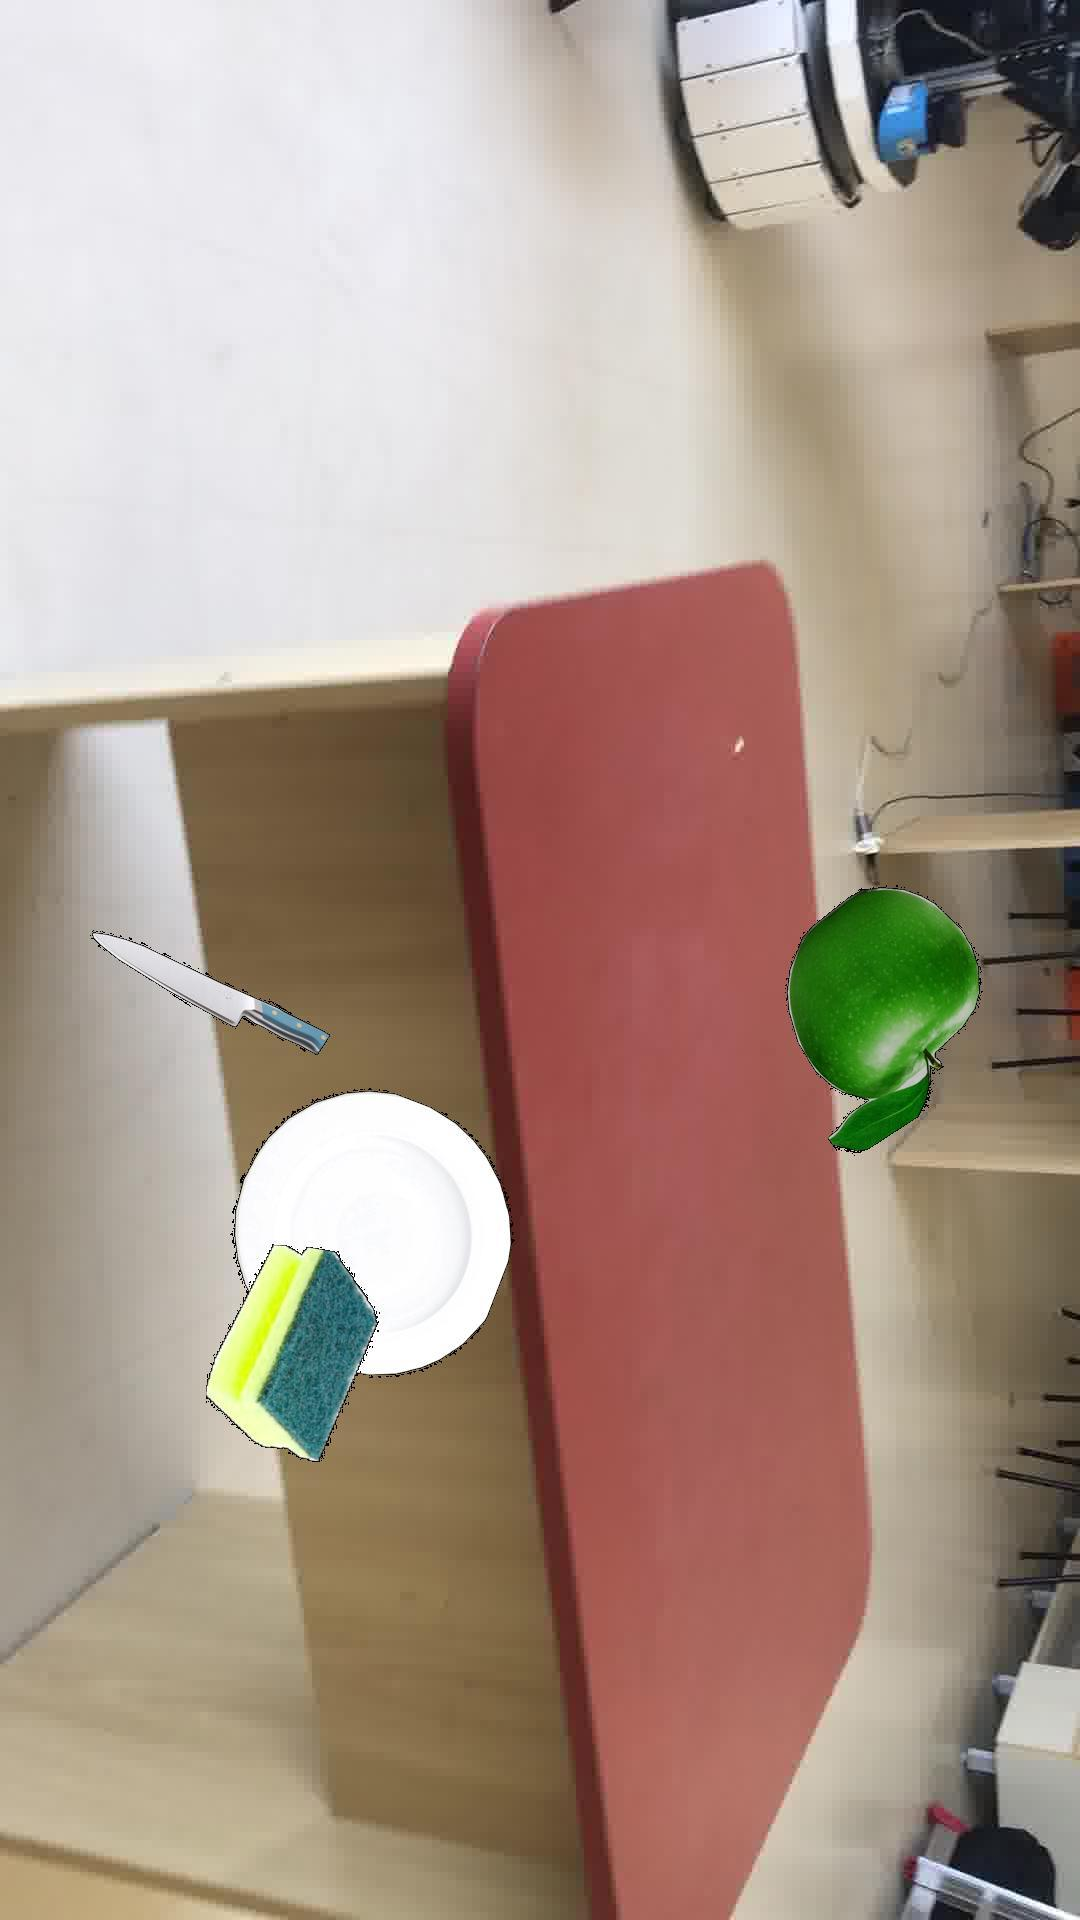green apple: (785, 886, 981, 1151)
knife: (90, 931, 328, 1054)
plate: (231, 1089, 513, 1377)
sponge: (204, 1242, 377, 1461)
